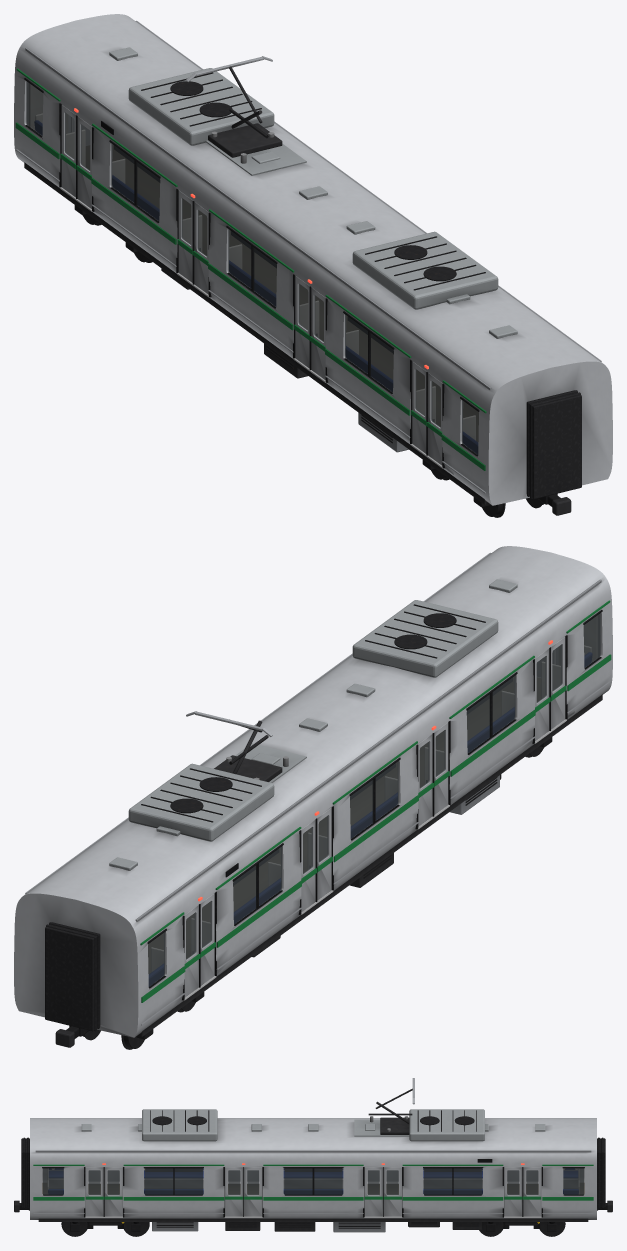
File: commuter_mid.glb
3 renders of one model, top to bottom at view 1: azimuth 30°, elevation 25°; view 2: azimuth 150°, elevation 25°; view 3: azimuth 270°, elevation 25°, orthographic. The views are drawn at different scales.
Visible parts, largest first — view 1: commuter_mid_stainless, commuter_mid_galvanised, commuter_mid_glass, commuter_mid_steel_dark, commuter_mid_gangway, commuter_mid_paint_green, floor, commuter_mid_stainless_dull, commuter_mid_cast_iron, commuter_mid_rubber, commuter_mid_plastic_white, commuter_mid_seat_moquette (+1 smaller); view 2: commuter_mid_stainless, commuter_mid_galvanised, commuter_mid_glass, commuter_mid_gangway, commuter_mid_steel_dark, commuter_mid_paint_green, floor, commuter_mid_stainless_dull, commuter_mid_cast_iron, commuter_mid_rubber, commuter_mid_plastic_white, commuter_mid_seat_moquette; view 3: commuter_mid_stainless, commuter_mid_glass, commuter_mid_galvanised, commuter_mid_stainless_dull, commuter_mid_steel_dark, commuter_mid_paint_green, commuter_mid_seat_moquette, commuter_mid_cast_iron, commuter_mid_rubber, commuter_mid_gangway, floor, commuter_mid_bogie (+3 smaller).
Boxes of the visible parts, box(x1,y1,x2,y2) form: commuter_mid_stainless: box(14, 14, 612, 505); commuter_mid_galvanised: box(109, 47, 517, 338); commuter_mid_glass: box(26, 81, 478, 454); commuter_mid_steel_dark: box(24, 66, 571, 515); commuter_mid_gangway: box(526, 390, 581, 499); commuter_mid_paint_green: box(15, 68, 486, 470); floor: box(86, 145, 478, 441); commuter_mid_stainless_dull: box(16, 20, 601, 493); commuter_mid_cast_iron: box(74, 72, 557, 507); commuter_mid_rubber: box(24, 78, 479, 468); commuter_mid_plastic_white: box(29, 84, 475, 439); commuter_mid_seat_moquette: box(34, 120, 477, 454); commuter_mid_stainless: box(14, 546, 612, 1037); commuter_mid_galvanised: box(109, 579, 517, 870); commuter_mid_glass: box(148, 613, 600, 986); commuter_mid_gangway: box(45, 922, 100, 1031); commuter_mid_steel_dark: box(55, 694, 602, 1047); commuter_mid_paint_green: box(140, 600, 611, 1002); floor: box(148, 677, 540, 973); commuter_mid_stainless_dull: box(25, 552, 610, 1025); commuter_mid_cast_iron: box(69, 604, 552, 1039); commuter_mid_rubber: box(147, 610, 602, 1000); commuter_mid_plastic_white: box(151, 616, 597, 971); commuter_mid_seat_moquette: box(149, 652, 592, 986); commuter_mid_stainless: box(30, 1118, 596, 1219); commuter_mid_glass: box(43, 1168, 583, 1194); commuter_mid_galvanised: box(81, 1109, 545, 1141); commuter_mid_stainless_dull: box(33, 1078, 593, 1213); commuter_mid_steel_dark: box(14, 1088, 612, 1231); commuter_mid_paint_green: box(33, 1164, 593, 1200); commuter_mid_seat_moquette: box(48, 1168, 578, 1194); commuter_mid_cast_iron: box(28, 1110, 598, 1231); commuter_mid_rubber: box(42, 1167, 584, 1217); commuter_mid_gangway: box(21, 1137, 605, 1208); floor: box(42, 1182, 584, 1194); commuter_mid_bogie: box(61, 1222, 565, 1236).
Size of what is drawn, in the model's own units: 3 by 5.41 by 20.6.
22 materials, 19 textured.
